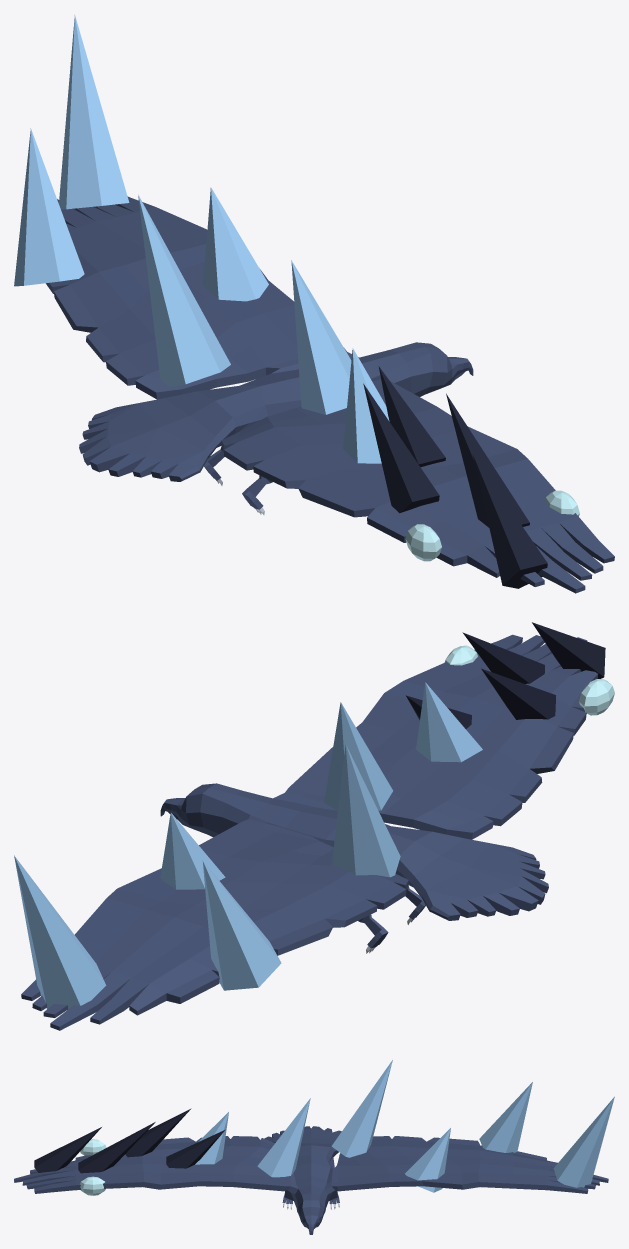
Rendered from TempestRoc.fbx.
3 views of the same model, one above another, from view 1: azimuth 30°, elevation 25°; view 2: azimuth 150°, elevation 25°; view 3: azimuth 270°, elevation 25° (orthographic). The views are drawn at different scales.
Visible parts, largest first — view 1: Body, Glow_a0d2ff, Head, WingL, Deco_Crest, WingR, Glow_c8f5ff; view 2: Body, Glow_a0d2ff, Head, WingL, Deco_Crest, WingR, Glow_c8f5ff; view 3: Body, Glow_a0d2ff, Head, Deco_Crest, WingR, WingL, Glow_c8f5ff.
Part boxes in pixels (left/top/right/bottom): Body: left=46, top=196, right=467, bottom=515; Glow_a0d2ff: left=14, top=15, right=389, bottom=463; Head: left=298, top=427, right=614, bottom=593; WingL: left=79, top=385, right=265, bottom=481; Deco_Crest: left=363, top=366, right=547, bottom=588; WingR: left=351, top=342, right=473, bottom=396; Glow_c8f5ff: left=405, top=490, right=579, bottom=561; Body: left=21, top=722, right=554, bottom=1030; Glow_a0d2ff: left=14, top=682, right=482, bottom=1009; Head: left=362, top=634, right=597, bottom=770; WingL: left=386, top=826, right=548, bottom=920; Deco_Crest: left=406, top=622, right=605, bottom=728; WingR: left=160, top=783, right=294, bottom=837; Glow_c8f5ff: left=444, top=645, right=614, bottom=715; Body: left=165, top=1136, right=608, bottom=1209; Glow_a0d2ff: left=195, top=1060, right=614, bottom=1192; Head: left=14, top=1137, right=201, bottom=1193; Deco_Crest: left=34, top=1108, right=225, bottom=1173; WingR: left=287, top=1181, right=335, bottom=1234; WingL: left=264, top=1126, right=341, bottom=1161; Glow_c8f5ff: left=80, top=1139, right=106, bottom=1195.
Size of the model in its own units: 6.63 by 4.26 by 16.17.
Materials: 3 (1 with a texture image).
